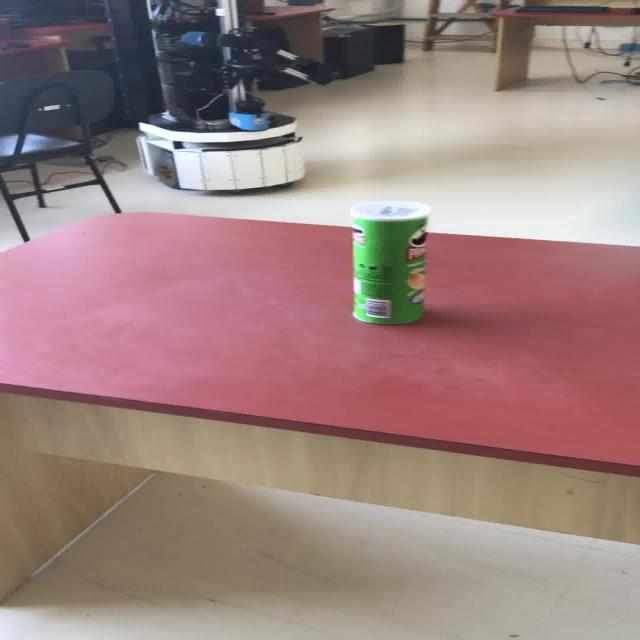pringles: (348, 200, 431, 324)
